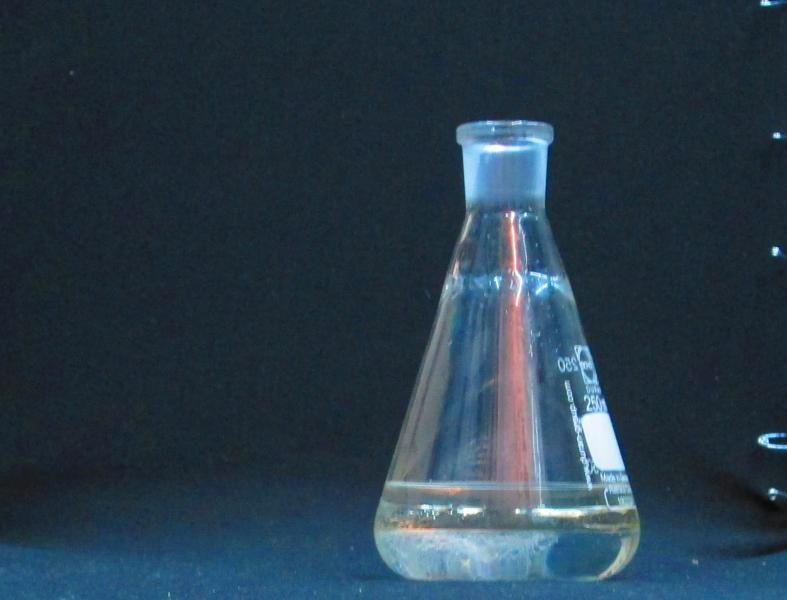Titrarion: (372, 97, 642, 584)
